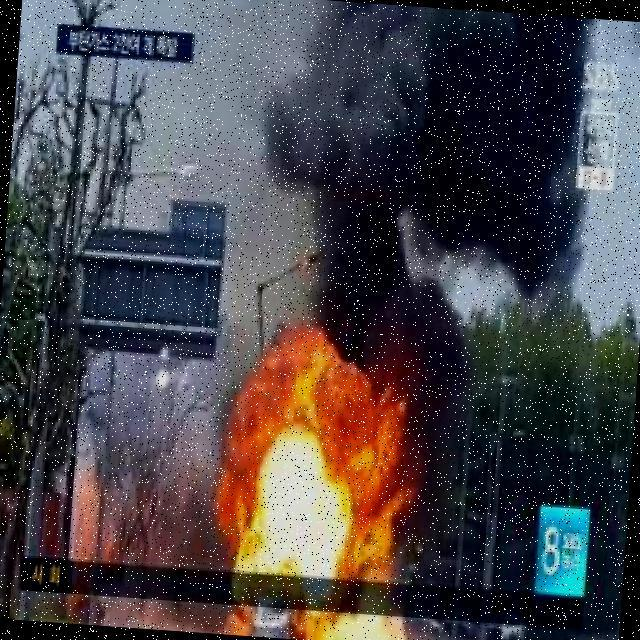Fire: (218, 369, 421, 640)
